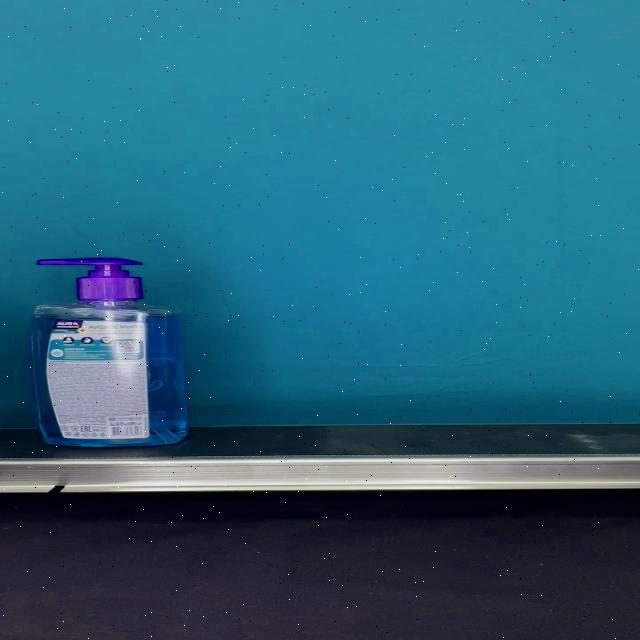Bottle: (29, 258, 189, 447)
Cap: (40, 258, 144, 300)
